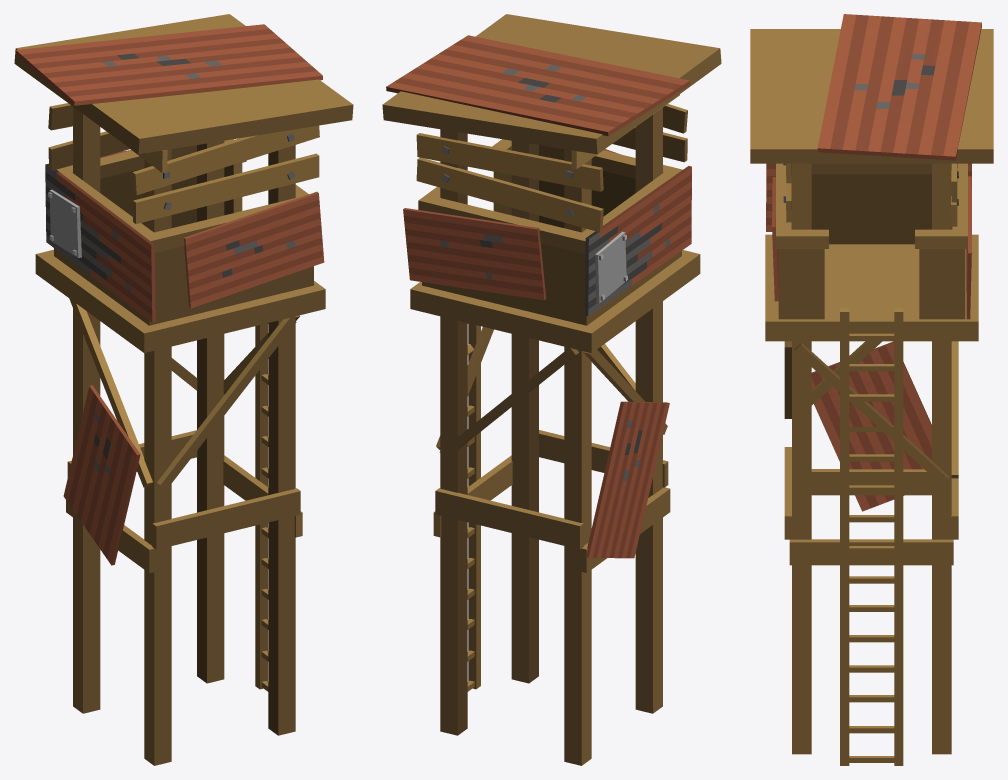
File: SA_Prop_GuardTower_01.glb
The picture shows the model from 3 angles, left to right: view 1: azimuth 30°, elevation 25°; view 2: azimuth 150°, elevation 25°; view 3: azimuth 270°, elevation 25°; orthographic projection.
Parts seen in each view (by area): view 1: SA_Prop_GuardTower_01; view 2: SA_Prop_GuardTower_01; view 3: SA_Prop_GuardTower_01.
Part boxes in pixels (x1,y1,x2,y2): SA_Prop_GuardTower_01: (14, 14, 353, 765); SA_Prop_GuardTower_01: (382, 14, 721, 765); SA_Prop_GuardTower_01: (750, 14, 993, 765).
Bounding box in the file's own units: 2.19 × 5.56 × 1.9.
1 material, 1 textured.
